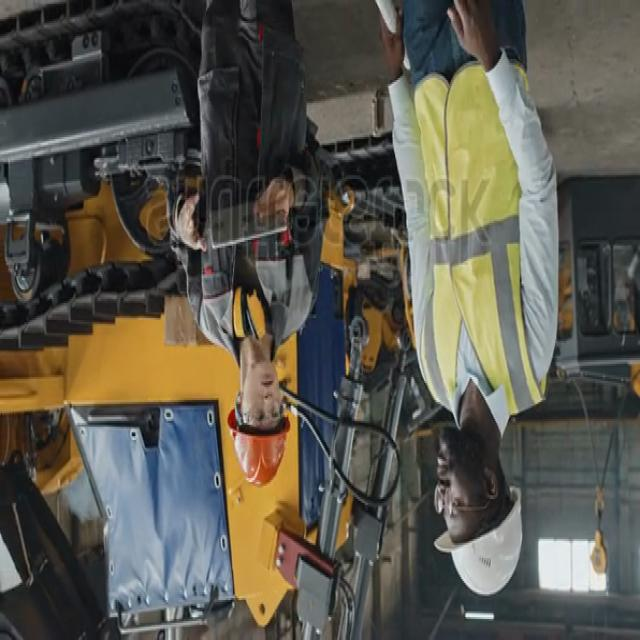Ear-Protection: (226, 282, 275, 348)
Glasses: (432, 484, 499, 522), (238, 401, 288, 433)
Helmet: (433, 489, 525, 601), (228, 421, 290, 490)
Vest: (412, 41, 544, 441)
